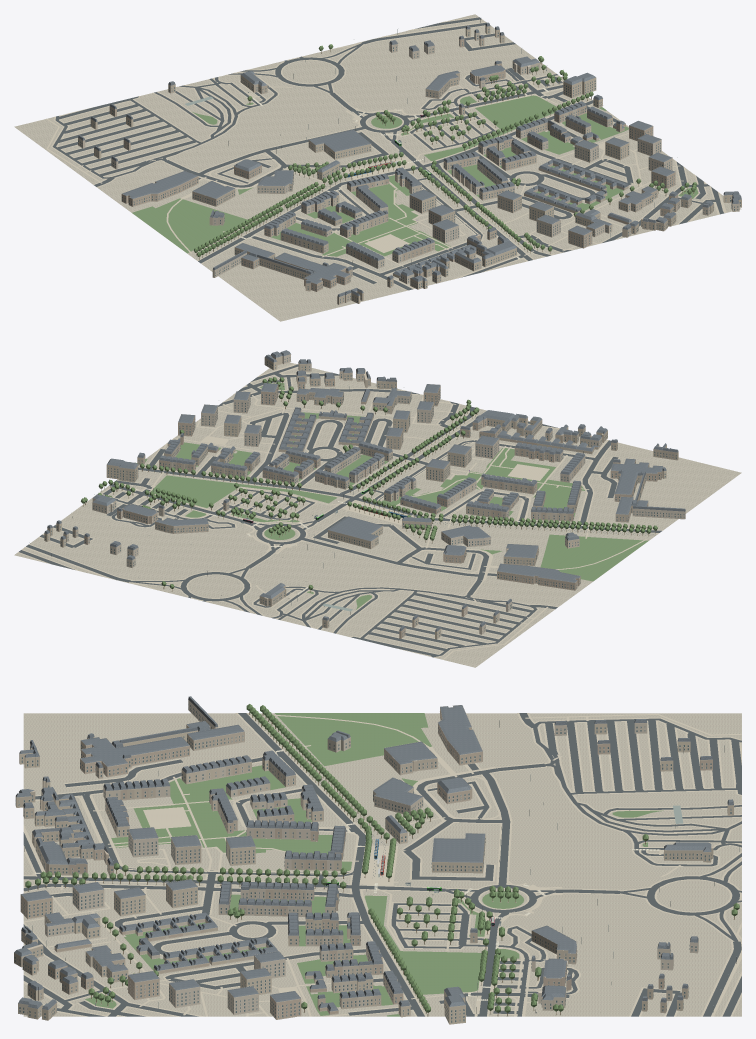
The model's file is neufchatel.glb.
The picture shows the model from 3 angles, top to bottom: view 1: azimuth 30°, elevation 25°; view 2: azimuth 150°, elevation 25°; view 3: azimuth 270°, elevation 25°; orthographic projection. The views are drawn at different scales.
Visible parts, largest first — view 1: Matériau 0, Matériau 10, Matériau 58, Matériau 1, Matériau 2, Matériau 17, Matériau 12, Matériau 6, Matériau 11, Matériau 13, Matériau 9, Matériau 8 (+2 smaller); view 2: Matériau 0, Matériau 58, Matériau 10, Matériau 1, Matériau 2, Matériau 17, Matériau 11, Matériau 13, Matériau 12, Matériau 6, Matériau 9, Matériau 8 (+2 smaller); view 3: Matériau 0, Matériau 10, Matériau 1, Matériau 58, Matériau 2, Matériau 17, Matériau 11, Matériau 6, Matériau 12, Matériau 9, Matériau 13, Matériau 8 (+2 smaller).
Boxes of the visible parts, x1,y1,x2,y2 form: Matériau 0: (14,14,741,321); Matériau 10: (78,22,741,296); Matériau 58: (46,16,726,290); Matériau 1: (52,17,724,290); Matériau 2: (132,95,698,256); Matériau 17: (193,44,697,256); Matériau 12: (90,25,741,303); Matériau 6: (78,32,739,284); Matériau 11: (168,29,713,304); Matériau 13: (109,39,677,291); Matériau 9: (78,25,741,304); Matériau 8: (78,28,740,302); Matériau 0: (14,362,741,667); Matériau 58: (18,363,662,659); Matériau 10: (44,350,685,631); Matériau 1: (19,364,661,657); Matériau 2: (145,383,648,609); Matériau 17: (81,377,657,589); Matériau 11: (47,362,678,628); Matériau 13: (84,375,663,638); Matériau 12: (44,355,666,639); Matériau 6: (63,354,685,634); Matériau 9: (45,354,684,639); Matériau 8: (45,357,684,637); Matériau 0: (23,713,741,1016); Matériau 10: (14,696,733,1011); Matériau 1: (23,713,741,1016); Matériau 58: (23,713,741,1016); Matériau 2: (85,713,663,1016); Matériau 17: (25,704,739,1012); Matériau 11: (14,731,733,1013); Matériau 6: (18,700,698,1015); Matériau 12: (19,724,690,1024); Matériau 9: (14,699,733,1024); Matériau 13: (20,706,712,1019); Matériau 8: (14,704,731,1022).
Bounding box in the file's own units: 592 × 18.08 × 578.
Materials: 134 (54 with a texture image).
